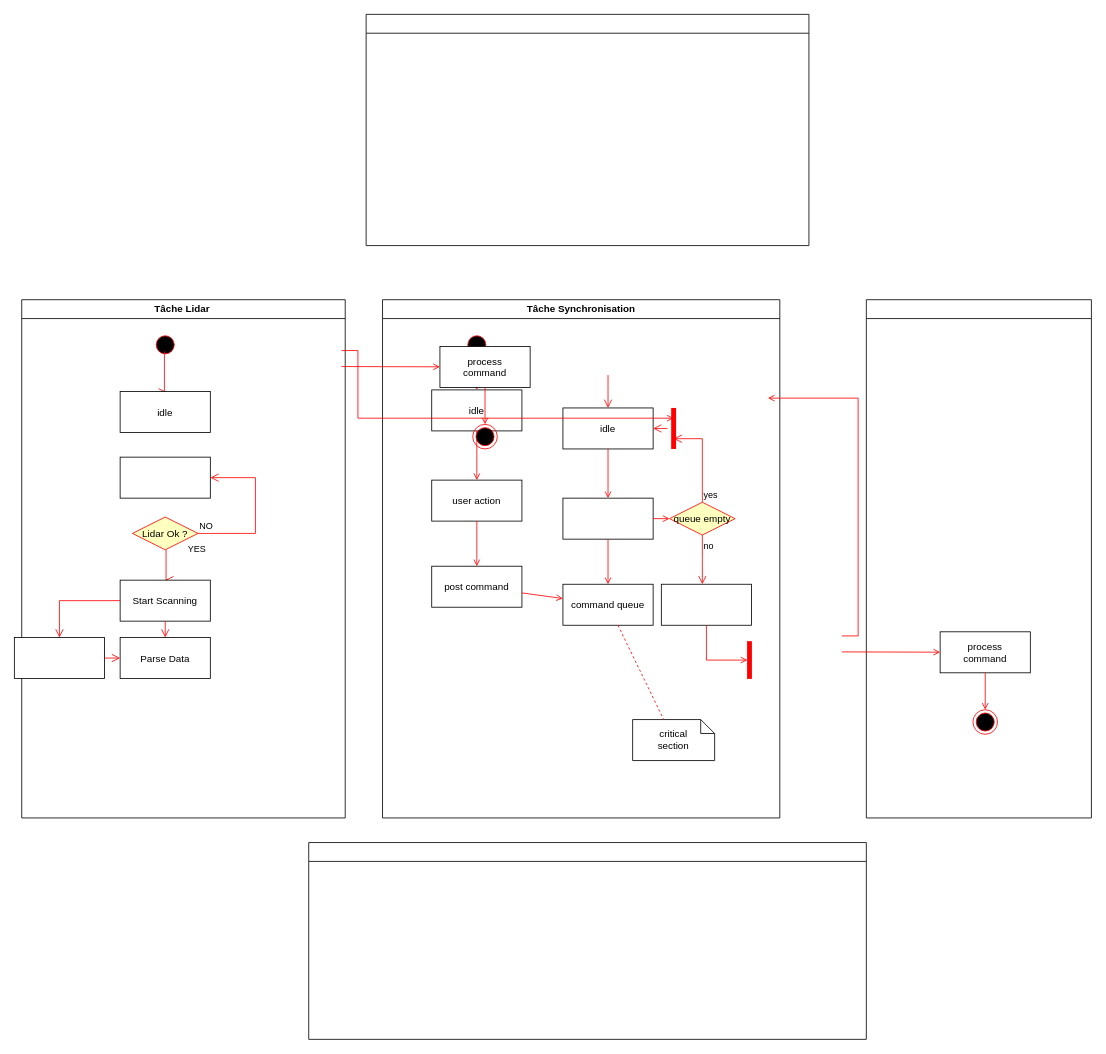
The diagram is 1106 pixels wide and 1054 high, and some of its shapes have lost their labels. The shapes that lost their labels are listed below. From the top down, each one's box as (x1, y1, x2, y2) in pixels, then its label:
(365, 14, 809, 246): Tâche Capteur Distance
(119, 456, 210, 498): Get Info
(562, 497, 653, 539): check for new commands
(866, 299, 1091, 818): Tâche Moteur
(661, 583, 752, 625): dispatch command worker thread
(14, 637, 105, 679): DMA fetching Lidar DATA
(308, 842, 866, 1039): Tâche Shell (Optionnel)
